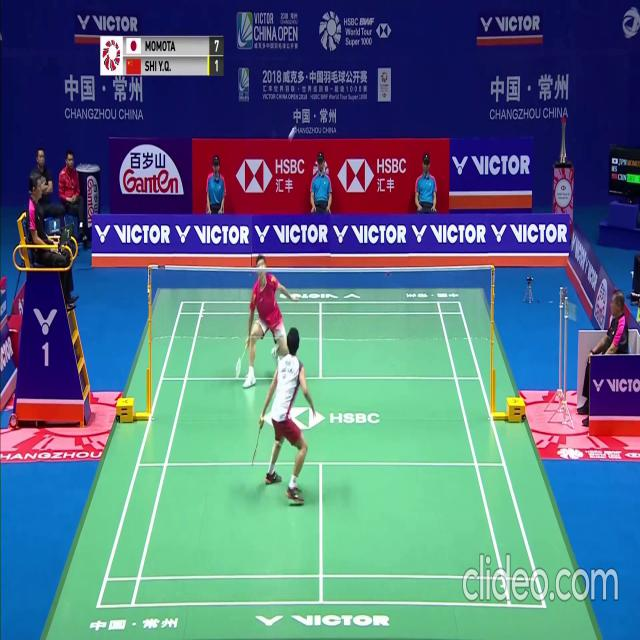Shuttlecock: (291, 126, 295, 134)
